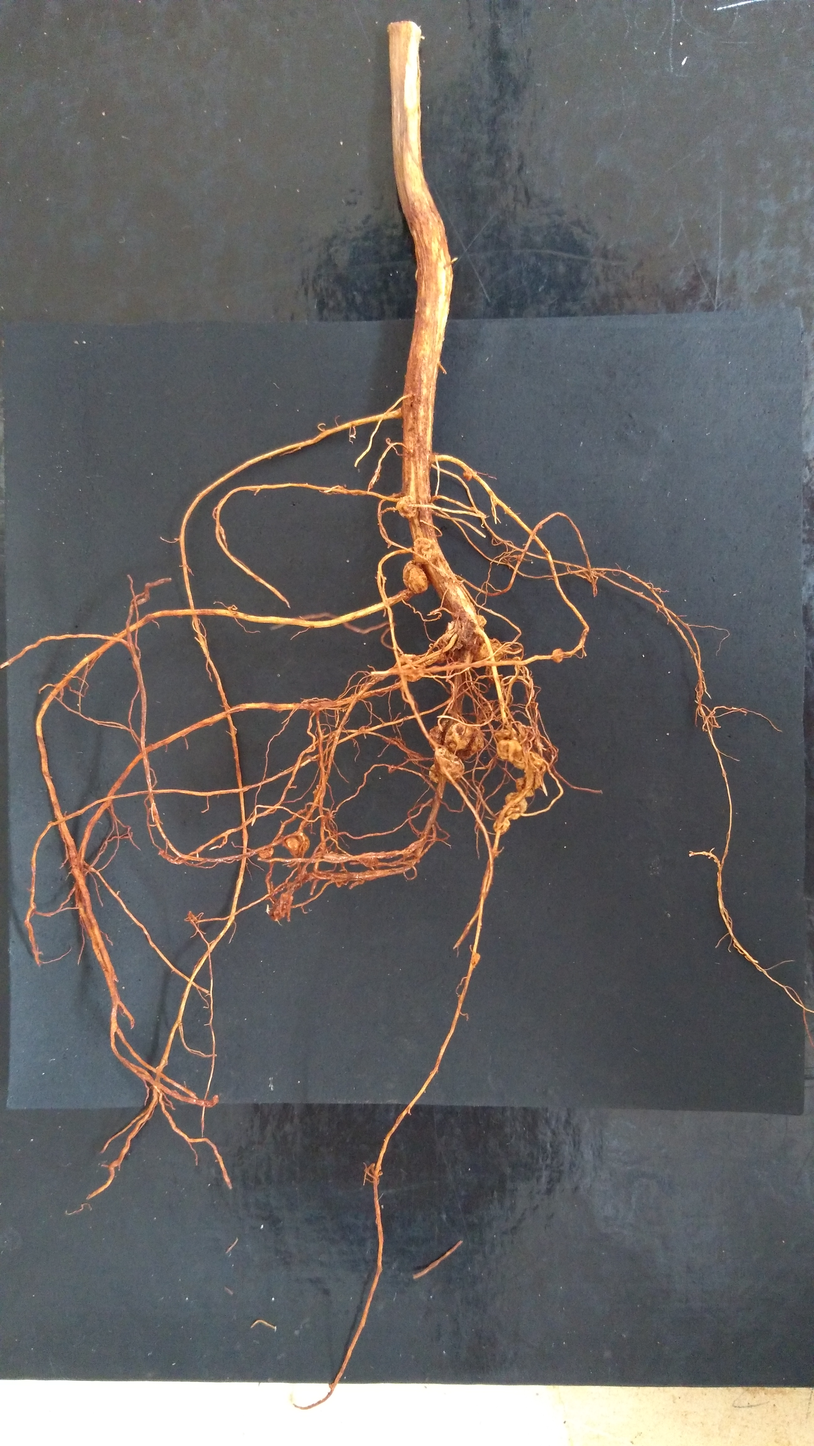nodule: (445, 723, 484, 759), (434, 748, 464, 783), (402, 560, 428, 593), (394, 654, 424, 682), (524, 752, 546, 789), (473, 642, 506, 662), (413, 538, 436, 564), (505, 792, 527, 819), (496, 740, 522, 762), (285, 831, 310, 853), (395, 495, 417, 519), (459, 611, 475, 642), (428, 725, 446, 751), (441, 633, 462, 651), (357, 852, 380, 868), (516, 778, 534, 797), (493, 816, 510, 833), (271, 904, 286, 921), (429, 764, 441, 783), (494, 729, 512, 741), (424, 651, 439, 665), (448, 620, 461, 636), (280, 893, 293, 908), (513, 755, 526, 769), (552, 648, 563, 663), (258, 848, 274, 858), (400, 590, 413, 601), (462, 639, 474, 649), (313, 785, 323, 796), (478, 615, 487, 627), (471, 953, 479, 966), (463, 470, 472, 481), (436, 654, 444, 663), (472, 643, 478, 653), (517, 555, 522, 561), (539, 524, 542, 528)
